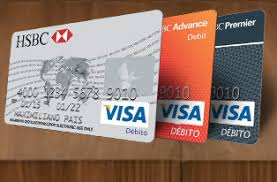tarjeta: (3, 9, 163, 143), (155, 9, 218, 144), (208, 9, 266, 144)
